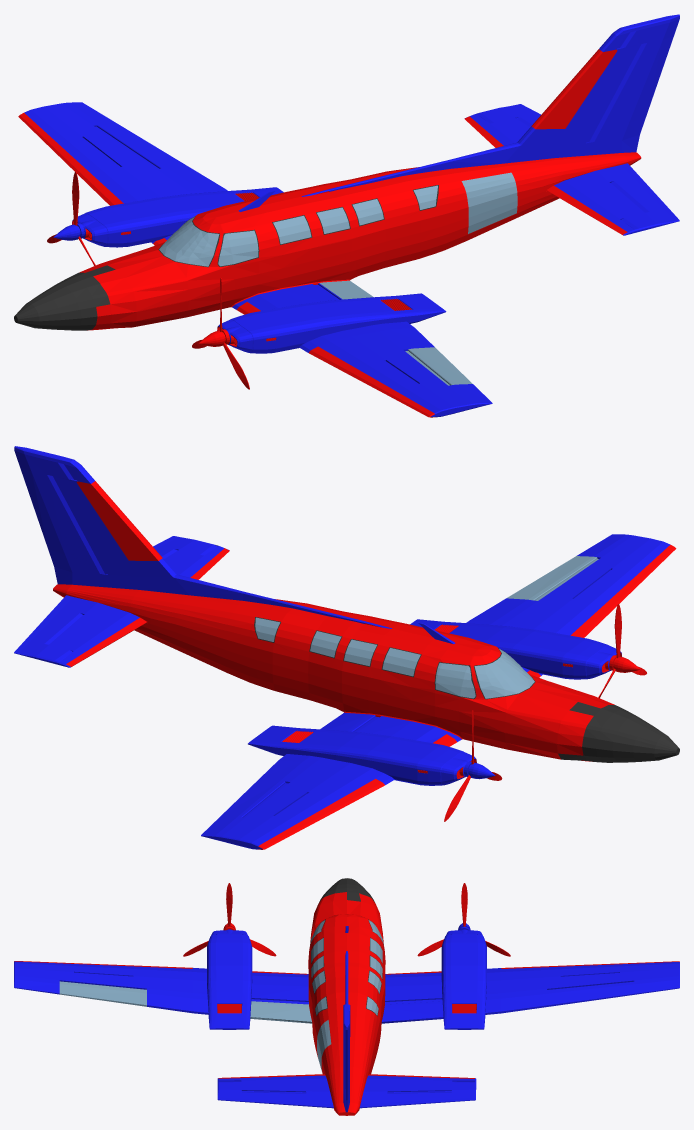
3 views of the same model, one above another, from view 1: azimuth 30°, elevation 25°; view 2: azimuth 150°, elevation 25°; view 3: azimuth 270°, elevation 25° (orthographic). The views are drawn at different scales.
Visible parts, largest first — view 1: cessna_cessna_white, cessna_cessna_black, cessna_cessna_glass, cessna_cessna_dkgrey; view 2: cessna_cessna_white, cessna_cessna_black, cessna_cessna_glass, cessna_cessna_dkgrey; view 3: cessna_cessna_white, cessna_cessna_black, cessna_cessna_glass, cessna_cessna_dkgrey.
Boxes of the visible parts, <box> form: cessna_cessna_white: <box>24,14,679,417</box>; cessna_cessna_black: <box>18,49,641,417</box>; cessna_cessna_glass: <box>159,172,517,385</box>; cessna_cessna_dkgrey: <box>14,185,438,330</box>; cessna_cessna_white: <box>14,446,670,849</box>; cessna_cessna_black: <box>53,481,676,849</box>; cessna_cessna_glass: <box>255,556,598,698</box>; cessna_cessna_dkgrey: <box>254,617,679,762</box>; cessna_cessna_white: <box>14,923,679,1112</box>; cessna_cessna_black: <box>14,883,679,1115</box>; cessna_cessna_glass: <box>59,920,383,1071</box>; cessna_cessna_dkgrey: <box>310,878,383,1016</box>.
Bounding box in the file's own units: 4.12 × 1.02 × 4.43.
